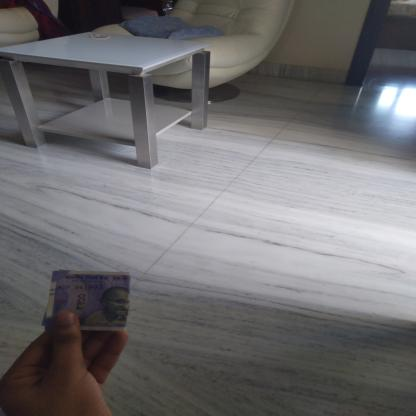New100Front: (50, 272, 132, 332)
